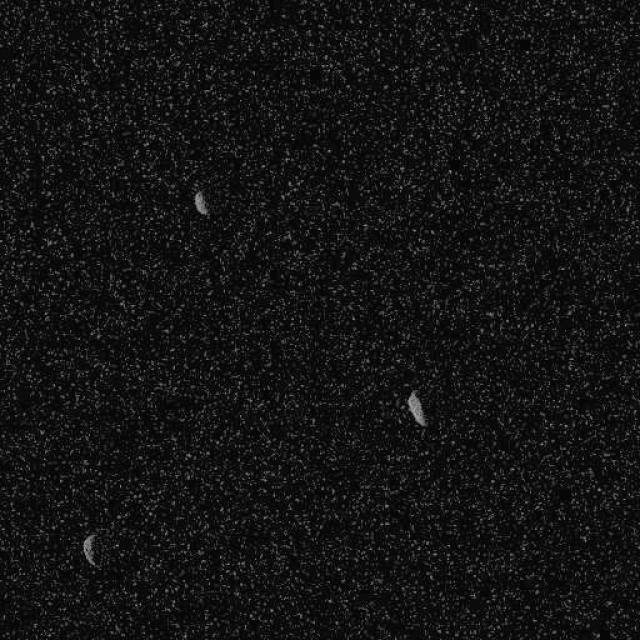D2: (405, 388, 427, 428), (81, 532, 99, 568), (192, 189, 210, 216)
